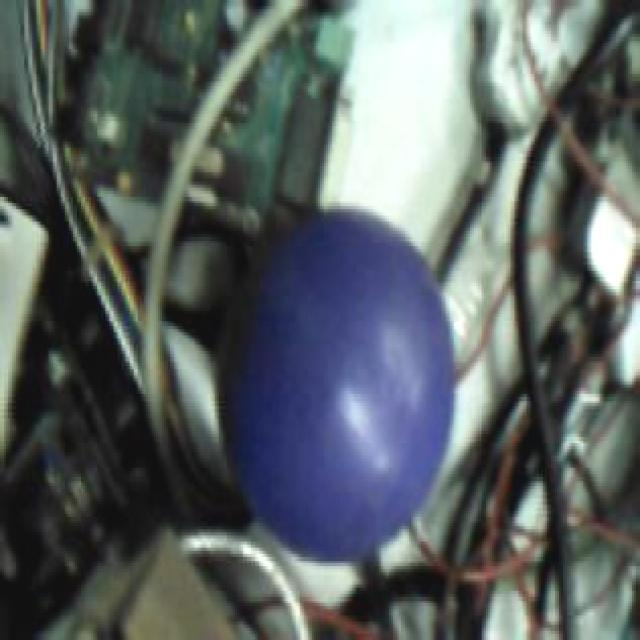BallPurple: (225, 208, 454, 560)
